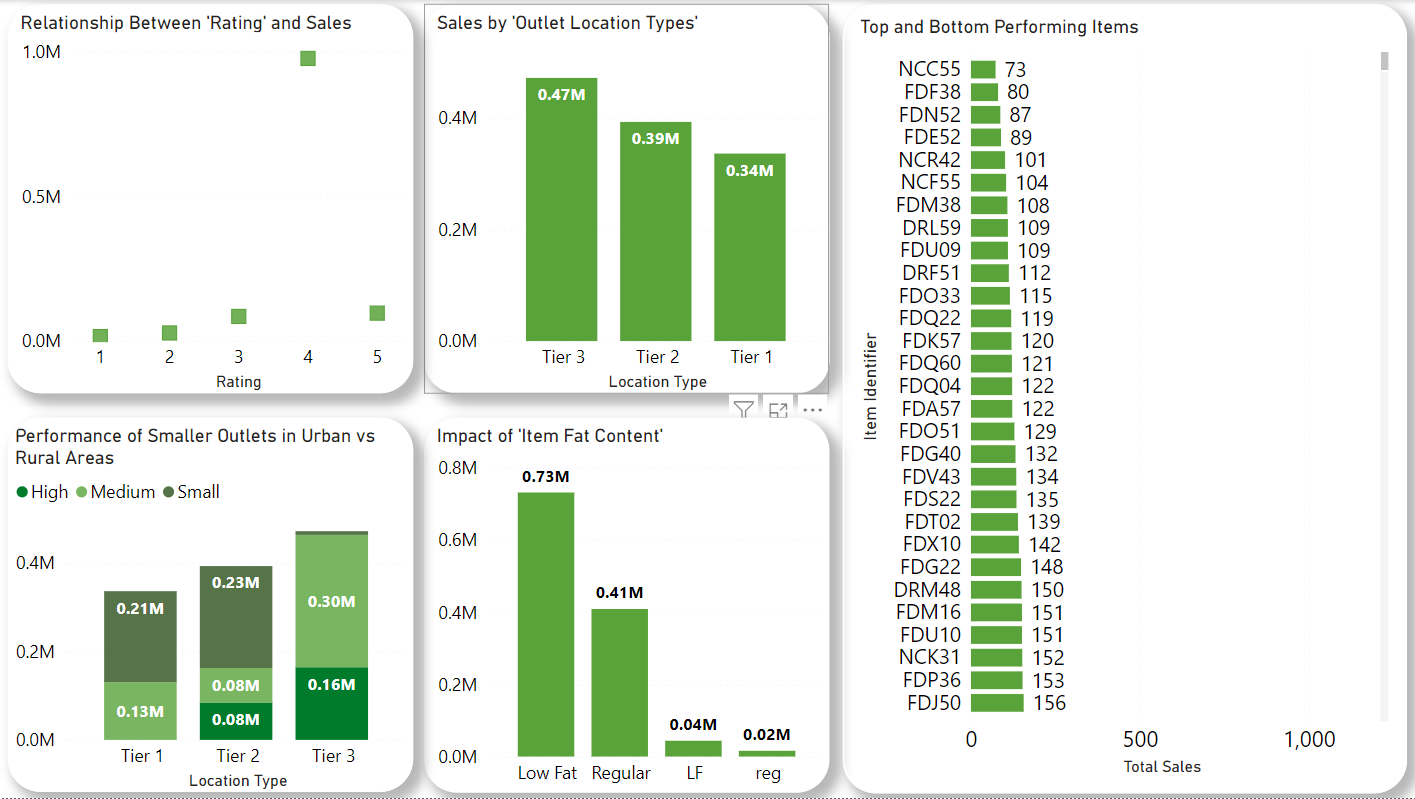

The page's visual inventory and layout, read from the dashboard file:
{"tool":"powerbi","page":{"name":"Page 2","canvas":[1280,720],"ordinal":1},"visuals":[{"type":"clusteredColumnChart","title":"Sales by ''Outlet Location Types''","fields":{"Category":["BlinkIT Grocery Data.Outlet Location Type"],"Y":["Sum(BlinkIT Grocery Data.Sales)"]},"box":[476.1,8.7,366.5,350.6],"z":0},{"type":"columnChart","title":"Impact of ''Item Fat Content''","fields":{"Category":["BlinkIT Grocery Data.Item Fat Content"],"Y":["Sum(BlinkIT Grocery Data.Sales)"]},"box":[476.1,376.6,366.5,339],"z":1000},{"type":"scatterChart","title":"Relationship Between ''Rating'' and Sales","fields":{"X":["BlinkIT Grocery Data.Rating"],"Y":["Sum(BlinkIT Grocery Data.Sales)"]},"box":[96.7,8.7,366.5,350.6],"z":2000},{"type":"columnChart","title":"Performance of Smaller Outlets in Urban vs Rural Areas","fields":{"Category":["BlinkIT Grocery Data.Outlet Location Type"],"Y":["Sum(BlinkIT Grocery Data.Sales)"],"Series":["BlinkIT Grocery Data.Outlet Size"]},"box":[96.7,376.6,366.5,337.6],"z":3000},{"type":"barChart","title":"Top and Bottom Performing Items","fields":{"Category":["BlinkIT Grocery Data.Item Identifier"],"Y":["Sum(BlinkIT Grocery Data.Sales)"]},"box":[856,8.6,414.5,711.7],"z":4000}]}

Visuals, with their boxes in screenshot pixels (x1, y1, x2, y2), scaled from the page's 1280x720 canvas onto the 1415x799 screenshot:
"Sales by ''Outlet Location Types''" clusteredColumnChart: box(526, 10, 931, 399)
"Impact of ''Item Fat Content''" columnChart: box(526, 418, 931, 794)
"Relationship Between ''Rating'' and Sales" scatterChart: box(107, 10, 512, 399)
"Performance of Smaller Outlets in Urban vs Rural Areas" columnChart: box(107, 418, 512, 793)
"Top and Bottom Performing Items" barChart: box(946, 10, 1404, 798)
